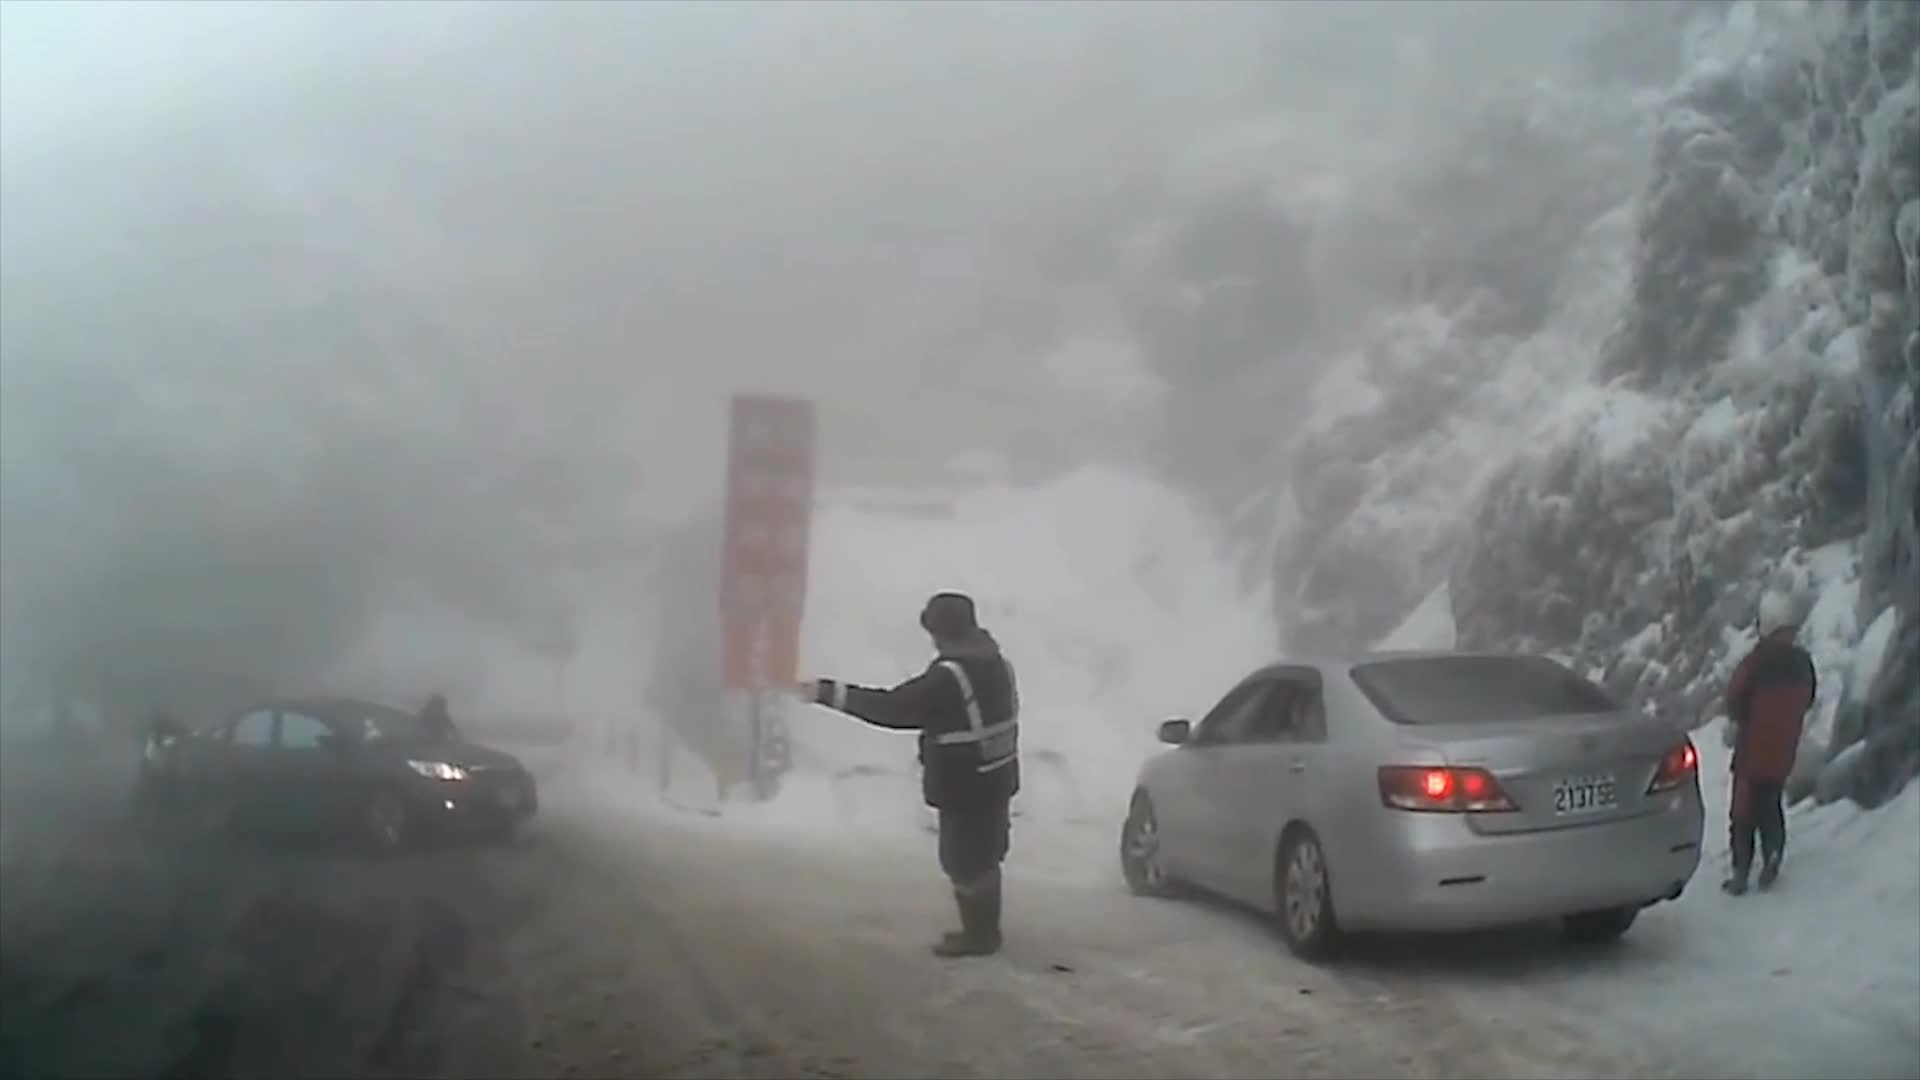pedestrian: (792, 588, 1019, 953), (1726, 585, 1822, 901)
vehicle: (1118, 648, 1705, 963), (175, 694, 545, 855)
